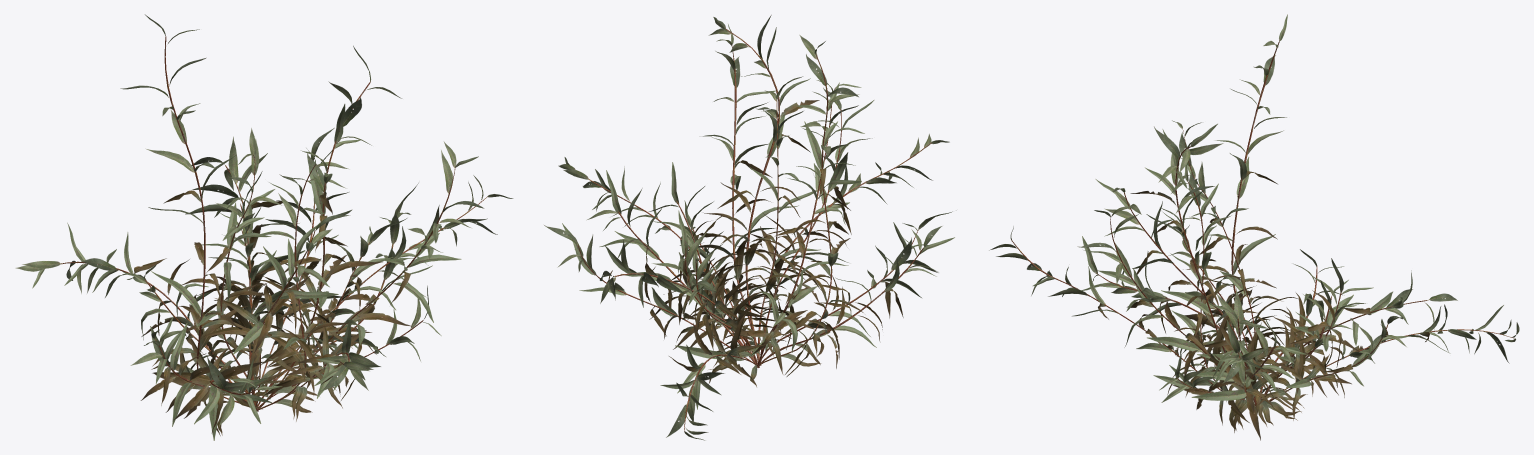
File: shrub.glb
3 views of the same model, side by side, from view 1: azimuth 30°, elevation 25°; view 2: azimuth 150°, elevation 25°; view 3: azimuth 270°, elevation 25° (orthographic). The views are drawn at different scales.
Visible parts, largest first — view 1: shrub_02_a, shrub_02_c, shrub_02_b, shrub_02_d; view 2: shrub_02_a, shrub_02_c, shrub_02_b, shrub_02_d; view 3: shrub_02_a, shrub_02_c, shrub_02_b, shrub_02_d.
Part boxes in pixels (box(x1,y1,x2,y2)): shrub_02_a: box(120, 14, 484, 435); shrub_02_c: box(15, 128, 513, 435); shrub_02_b: box(153, 46, 406, 440); shrub_02_d: box(122, 128, 441, 419); shrub_02_a: box(587, 24, 874, 367); shrub_02_c: box(558, 80, 954, 440); shrub_02_b: box(648, 15, 952, 374); shrub_02_d: box(544, 82, 820, 374); shrub_02_a: box(1077, 14, 1457, 440); shrub_02_c: box(989, 120, 1519, 428); shrub_02_b: box(1081, 123, 1373, 424); shrub_02_d: box(1153, 164, 1408, 430).
Size of the model in its own units: 1.77 by 1.7 by 2.29.
Materials: 1 (1 with a texture image).
